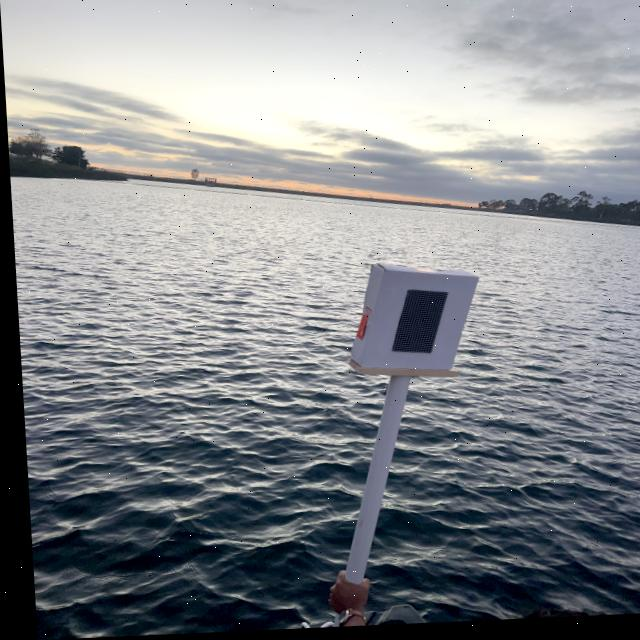led: (376, 281, 457, 380)
